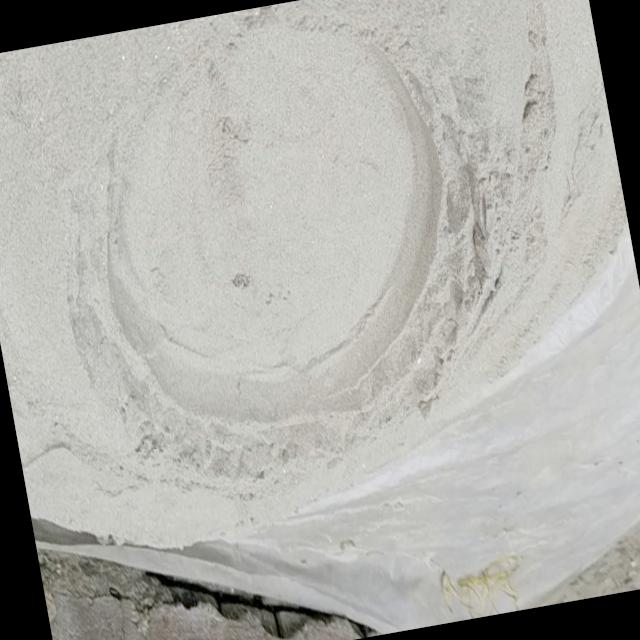C40: (97, 17, 444, 442)
